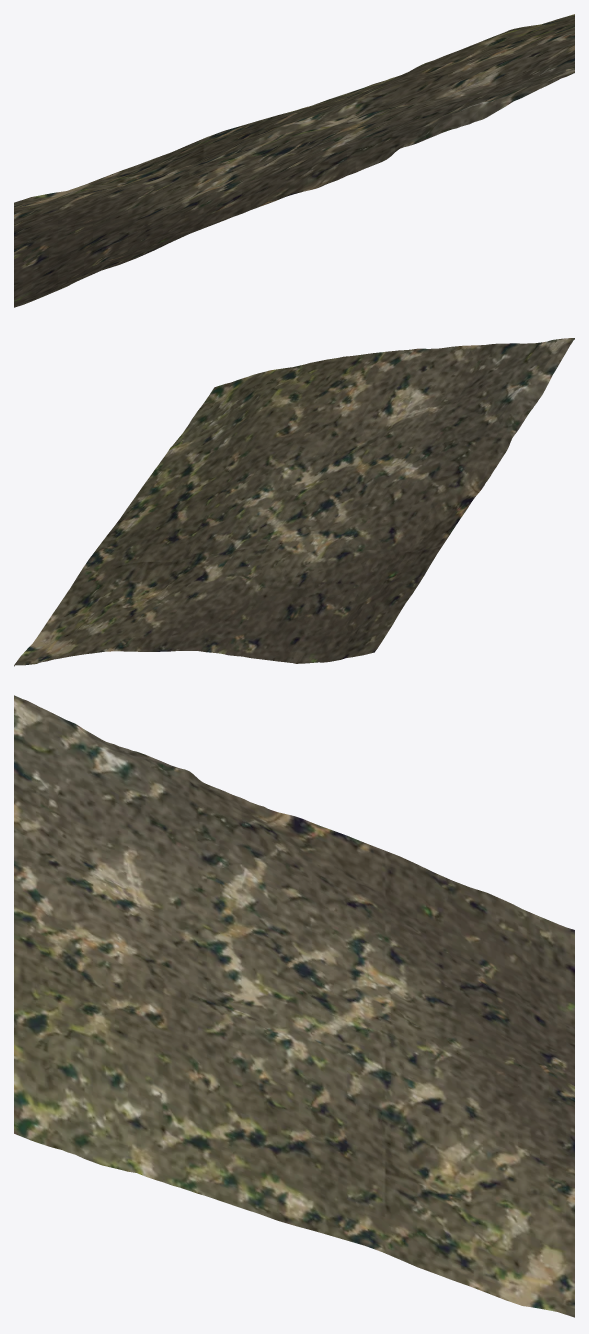
3 renders of one model, top to bottom at view 1: azimuth 90°, elevation 25°; view 2: azimuth 150°, elevation 25°; view 3: azimuth 270°, elevation 25°, orthographic. The views are drawn at different scales.
Size of the model in its own units: 250 by 179 by 241.
Materials: 1 (1 with a texture image).
